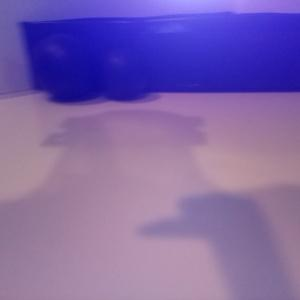dead_ball: (33, 33, 101, 101), (99, 49, 145, 98)
